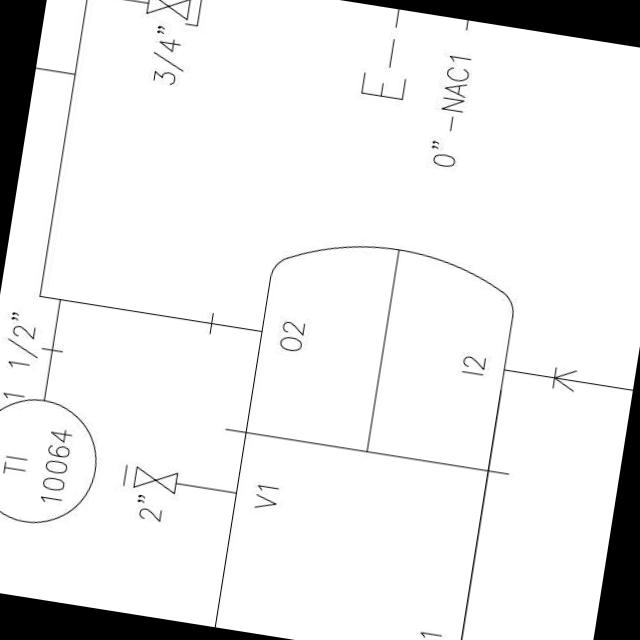EC: (112, 0, 208, 32)
GV: (130, 464, 184, 498), (144, 0, 193, 21)
